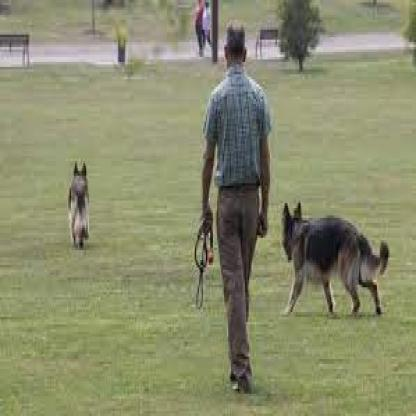dog: (280, 193, 385, 329), (64, 158, 110, 265)
